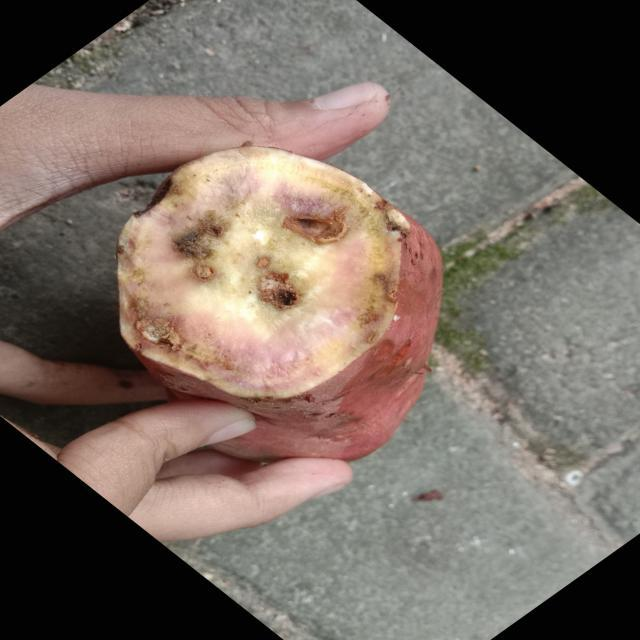Sick Sweet Potato_Tuber Rot: (117, 146, 408, 399)
